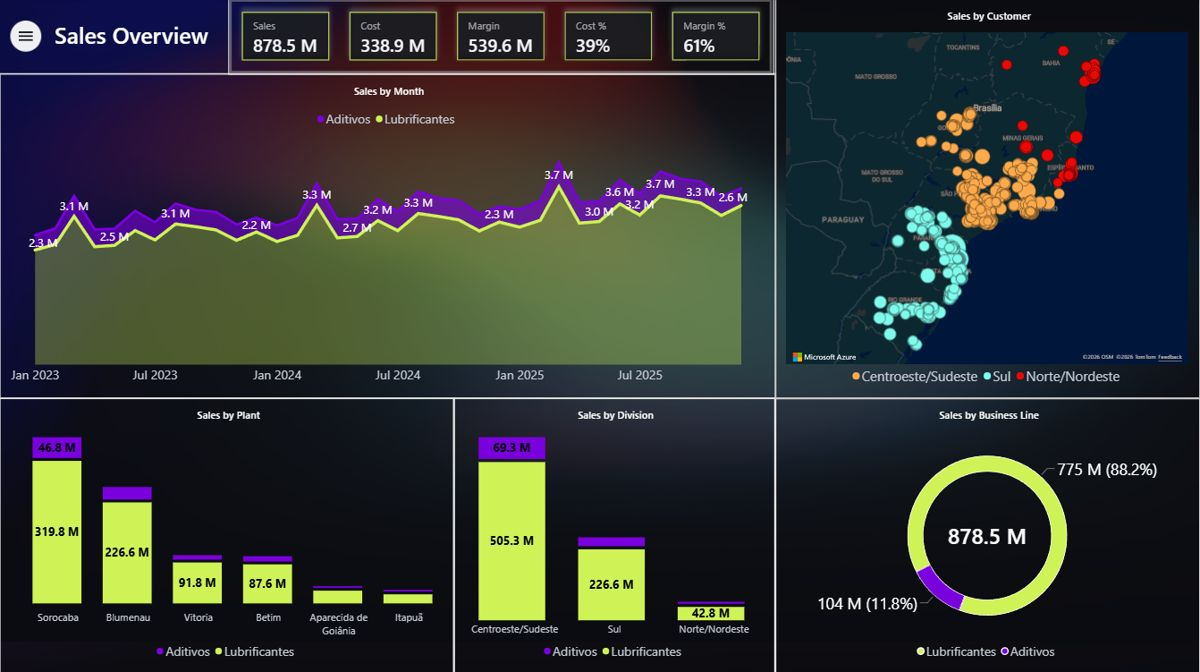

The dashboard page shown, as its layout file describes it:
{"tool":"powerbi","page":{"name":"Page Sales Overview","canvas":[1920,1080],"ordinal":0},"visuals":[{"type":"donutChart","title":"Sales by Business Line","fields":{"Category":["Sales_2023_2025.BL_DESC"],"Y":["# Medidas.Sales"]},"box":[1239.5,637.9,680.5,442.1],"z":0},{"type":"columnChart","title":"Sales by Division ","fields":{"Category":["Sales_2023_2025.Division","Sales_2023_2025.Plant Name"],"Series":["Sales_2023_2025.BL_DESC"],"Y":["# Medidas.Sales"]},"box":[726.3,637.9,515.8,442.1],"z":1000},{"type":"columnChart","title":"Sales by Plant","fields":{"Category":["Sales_2023_2025.Plant Name"],"Series":["Sales_2023_2025.BL_DESC"],"Y":["# Medidas.Sales"]},"box":[0,637.9,729,442.1],"z":2000},{"type":"stackedAreaChart","title":"Sales by Month","fields":{"Category":["Sales_2023_2025.Sales Month"],"Series":["Sales_2023_2025.BL_DESC"],"Y":["# Medidas.Sales"]},"box":[0,120,1242,521],"z":3000},{"type":"cardVisual","fields":{"Data":["Sales_2023_2025.Sales","Sales_2023_2025.Cost","Sales_2023_2025.Margin","# Medidas.Cost %","# Medidas.Margin %"]},"box":[367,0,872.8,122.5],"z":4000},{"type":"azureMap","title":"Sales by Customer","fields":{"Series":["Sales_2023_2025.Division"],"Size":["# Medidas.Sales"],"X":["Sales_2023_2025.Longitude"],"Y":["Sales_2023_2025.Latitude"]},"box":[1239.5,0,680.5,641.1],"z":5000},{"type":"textbox","title":"Sales Overview","box":[62.9,34,297.7,52.7],"z":6000},{"type":"image","box":[17,35.7,49.3,49.3],"z":7000}]}

Visuals, with their boxes in screenshot pixels (x1, y1, x2, y2), scaled from the page's 1920x1080 canvas onto the 1200x672 screenshot:
"Sales by Business Line" donutChart: <box>775,397,1199,671</box>
"Sales by Division " columnChart: <box>454,397,776,671</box>
"Sales by Plant" columnChart: <box>0,397,456,671</box>
"Sales by Month" stackedAreaChart: <box>0,75,776,399</box>
cardVisual - Sales_2023_2025.Sales x Sales_2023_2025.Cost: <box>229,0,775,76</box>
"Sales by Customer" azureMap: <box>775,0,1199,399</box>
"Sales Overview" textbox: <box>39,21,225,54</box>
image: <box>11,22,41,53</box>
